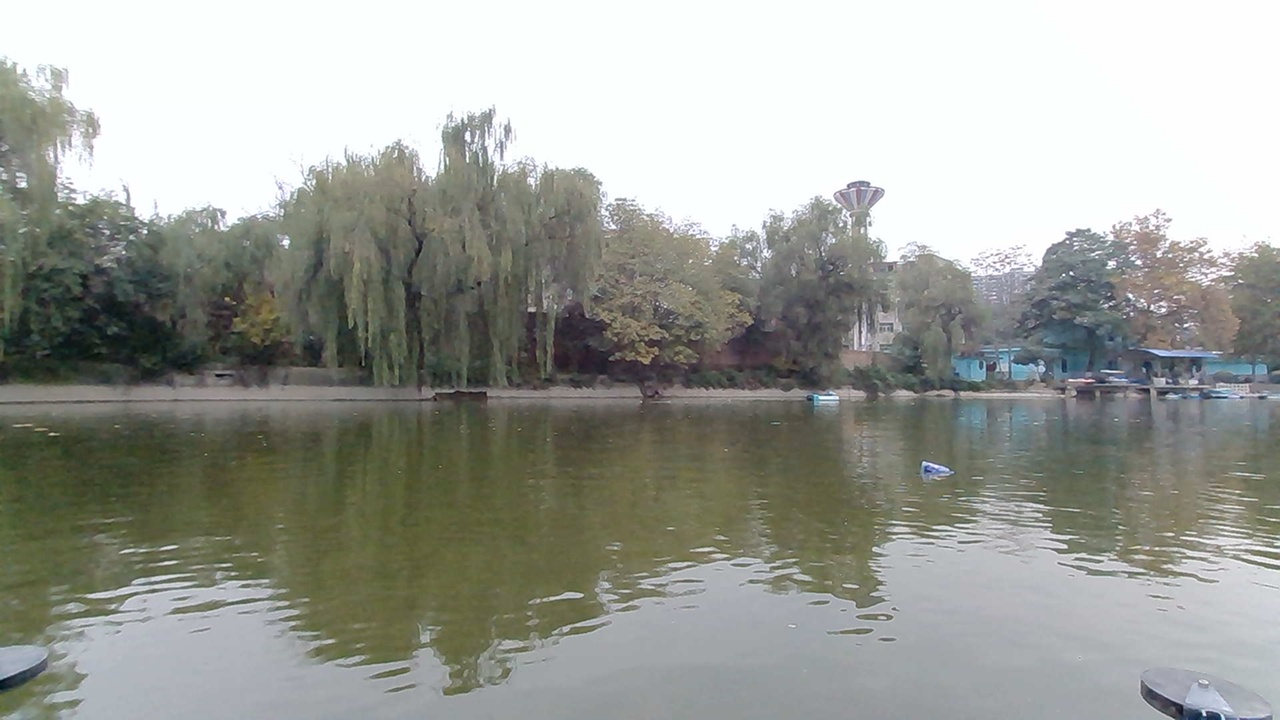bottle: (915, 455, 960, 489)
